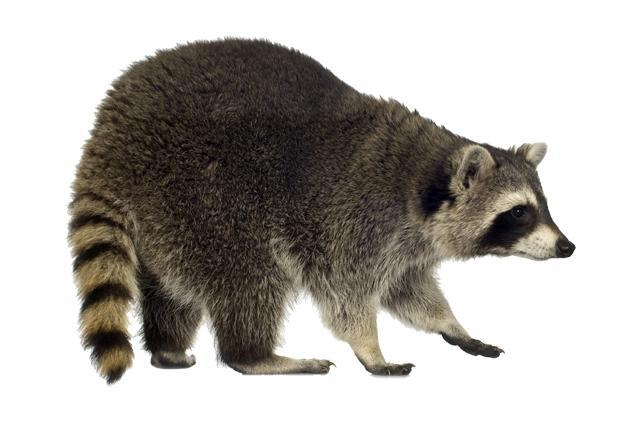raccoon: (64, 26, 580, 397)
